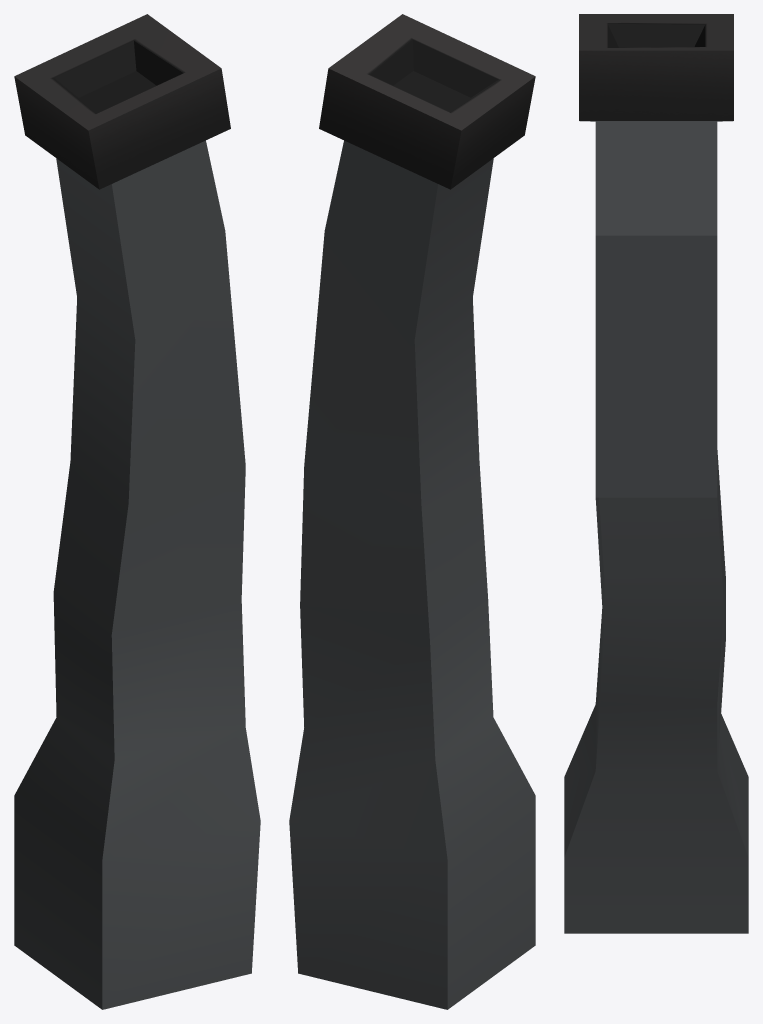
The model's file is fanasty_mod_sml_chimney02.fbx.
3 views of the same model, side by side, from view 1: azimuth 30°, elevation 25°; view 2: azimuth 150°, elevation 25°; view 3: azimuth 270°, elevation 25° (orthographic). The views are drawn at different scales.
Parts seen in each view (by area): view 1: chimney_02; view 2: chimney_02; view 3: chimney_02.
Part boxes in pixels (x1,y1,x2,y2): chimney_02: (14, 14, 260, 1009); chimney_02: (289, 14, 535, 1009); chimney_02: (564, 14, 748, 933).
Size of the model in its own units: 1.7 by 8.91 by 1.57.
